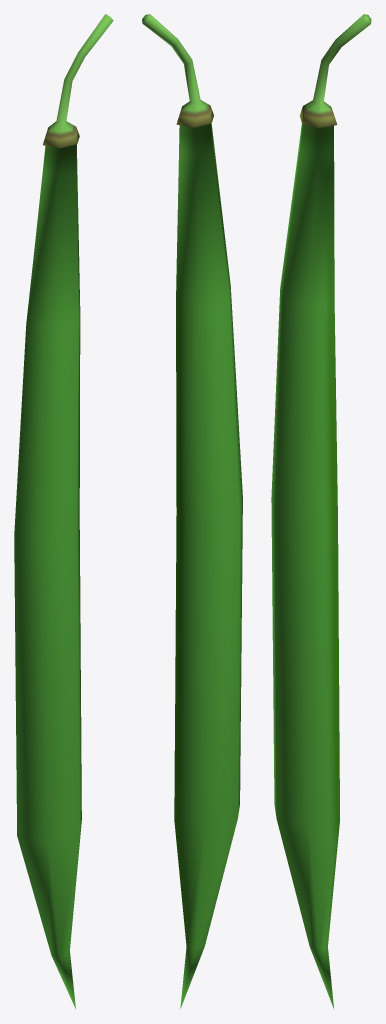
The model's file is Greenbean.FBX.
3 views of the same model, side by side, from view 1: azimuth 30°, elevation 25°; view 2: azimuth 210°, elevation 25°; view 3: azimuth 330°, elevation 25° (orthographic).
Visible parts, largest first — view 1: Greenbean; view 2: Greenbean; view 3: Greenbean.
Boxes of the visible parts, left/top/right/bottom form: Greenbean: left=14, top=14, right=113, bottom=1008; Greenbean: left=142, top=14, right=242, bottom=1008; Greenbean: left=271, top=14, right=371, bottom=1009.
Size of the model in its own units: 1.45 by 13.86 by 0.7262.
1 material, 1 textured.
